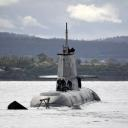submarine: (9, 23, 106, 112)
